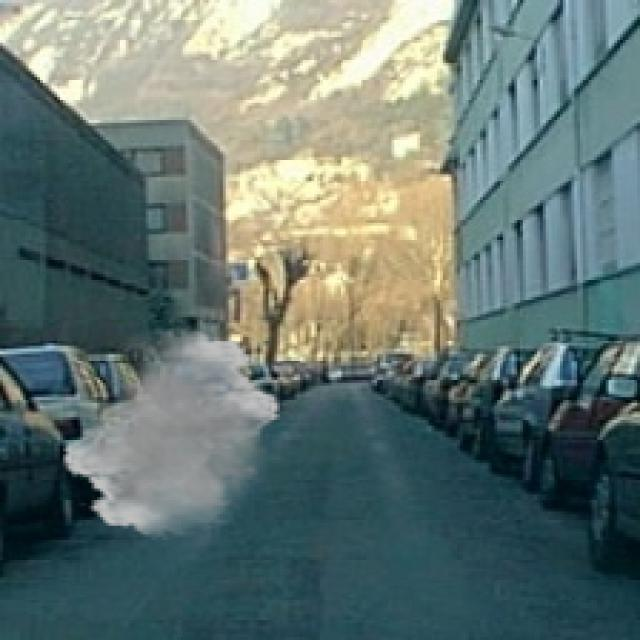smoke: (60, 326, 283, 540)
